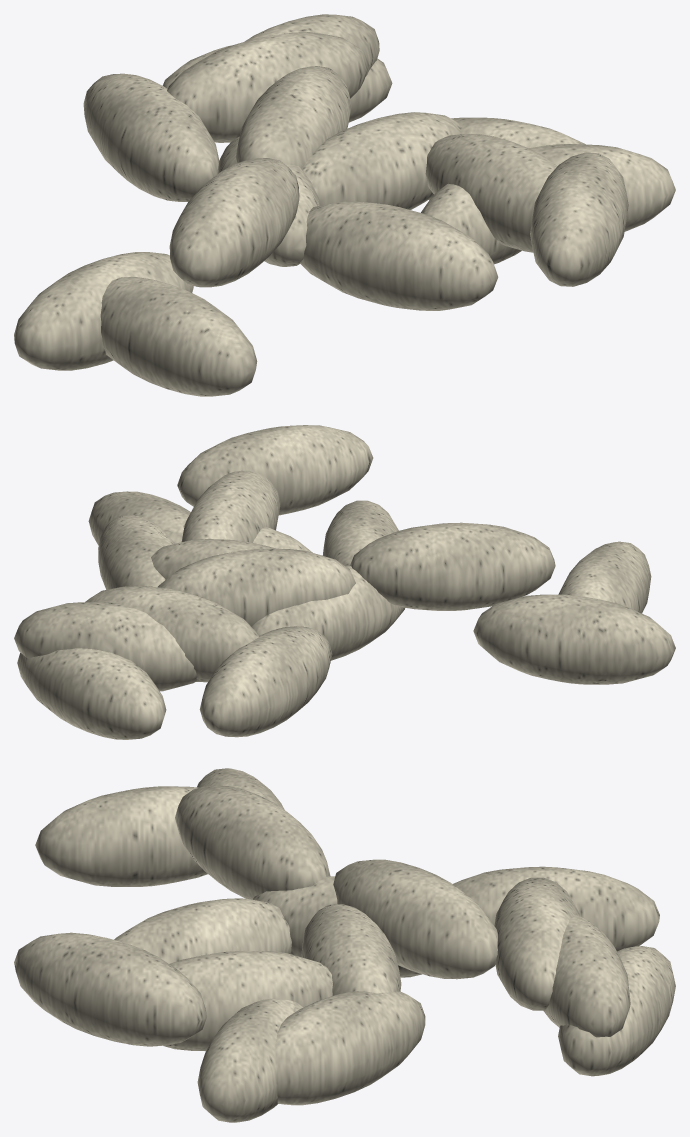
Rendered from food-02-full.glb.
3 renders of one model, top to bottom at view 1: azimuth 30°, elevation 25°; view 2: azimuth 150°, elevation 25°; view 3: azimuth 270°, elevation 25°, orthographic. The views are drawn at different scales.
Visible parts, largest first — view 1: Food; view 2: Food; view 3: Food.
Boxes of the visible parts, x1=… form: Food: x1=14, y1=14, x2=675, y2=396; Food: x1=14, y1=425, x2=675, y2=739; Food: x1=14, y1=768, x2=675, y2=1122.
Bounding box in the file's own units: 0.4034 × 0.0867 × 0.3546.
Materials: 1 (1 with a texture image).
